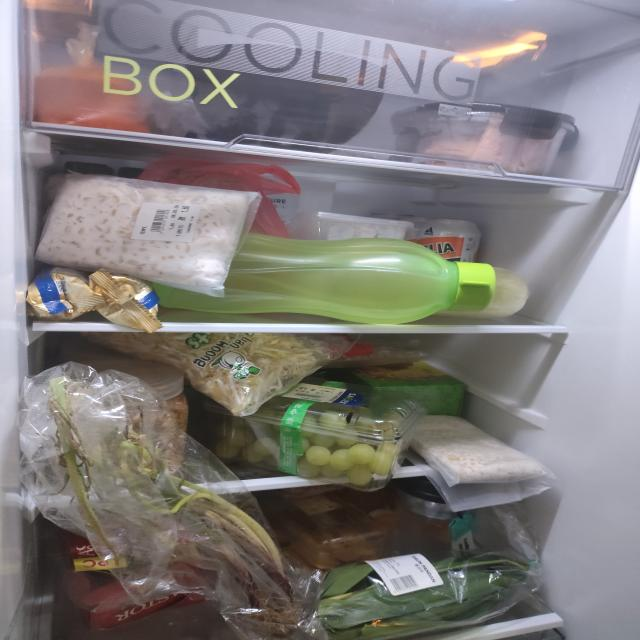bean_sprouts: (84, 332, 334, 414)
grape: (215, 396, 401, 486)
leafy_greens: (312, 552, 532, 640)
spring_onion: (48, 378, 294, 640)
tempeh: (34, 173, 249, 289), (408, 413, 547, 484)
